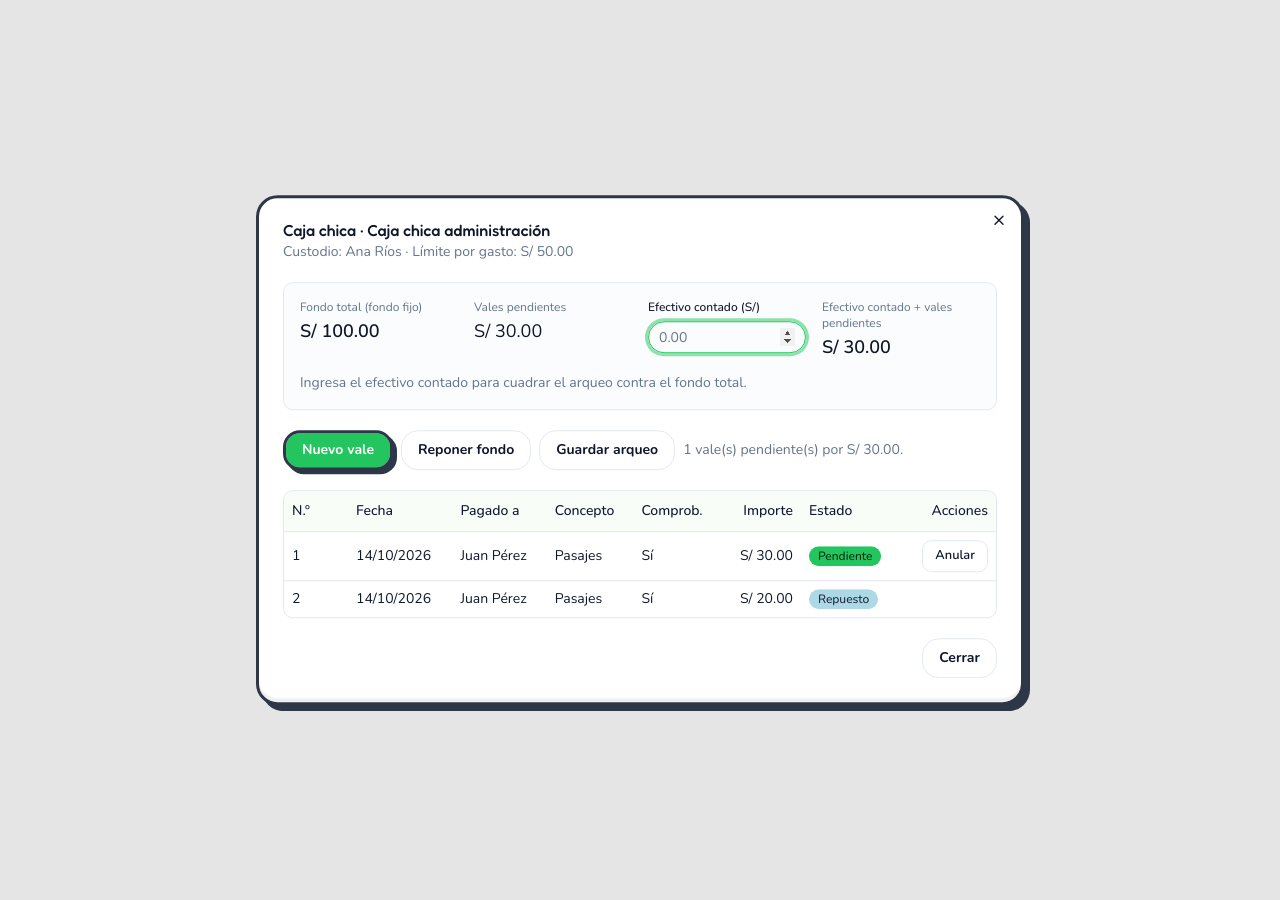
Test: PettyCashPanel › abre la reposición con los vales pendientes seleccionados
The image size is (1280, 900).
Click the button "Reponer fondo" at {"x": 466, "y": 450}, box top-left (401, 430), bottom-right (531, 470)
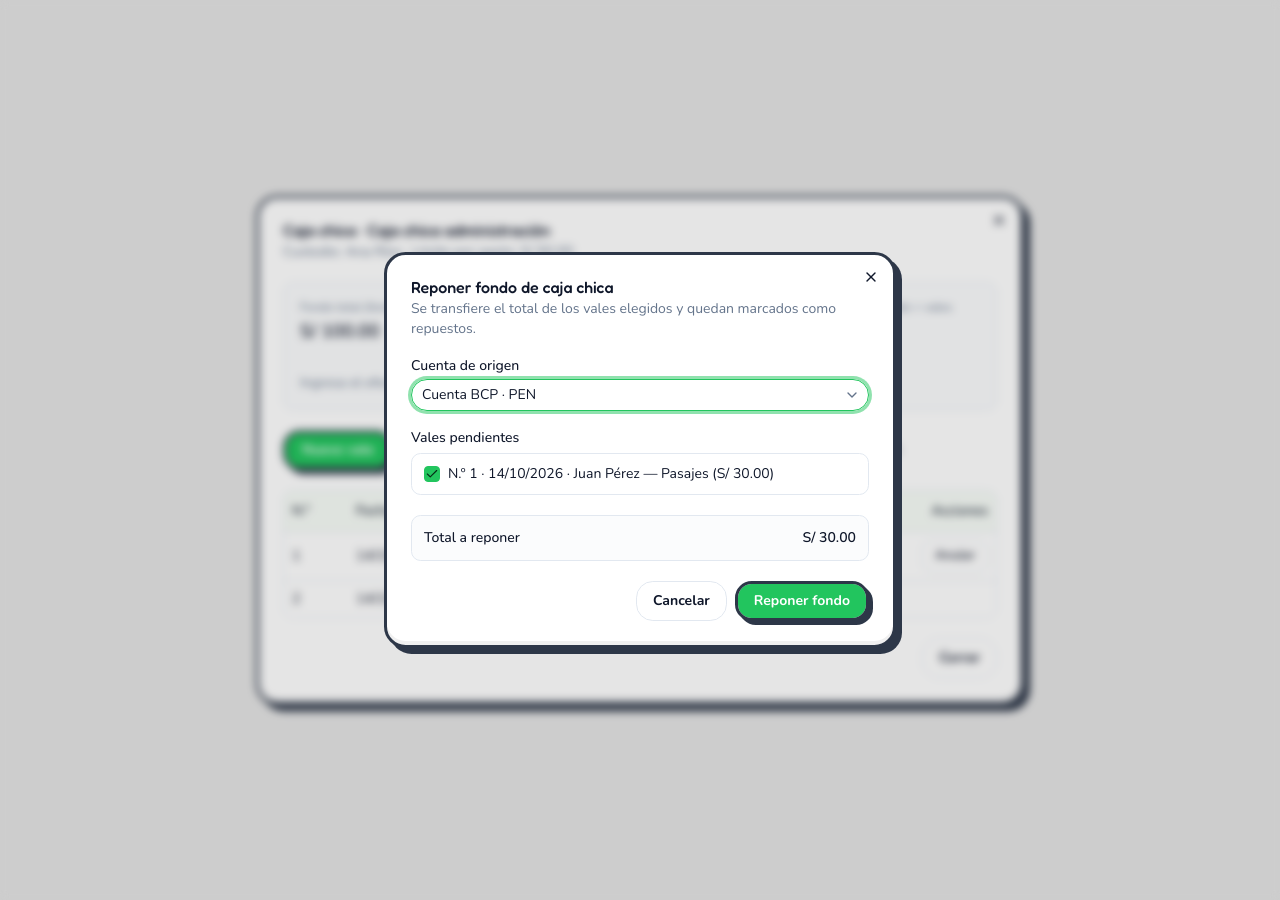
Expected: the checkbox "N.º 1 · 14/10/2026 · Juan Pérez — Pasajes (S/ 30.00)" is shown, top-left (448, 464), bottom-right (774, 483)
